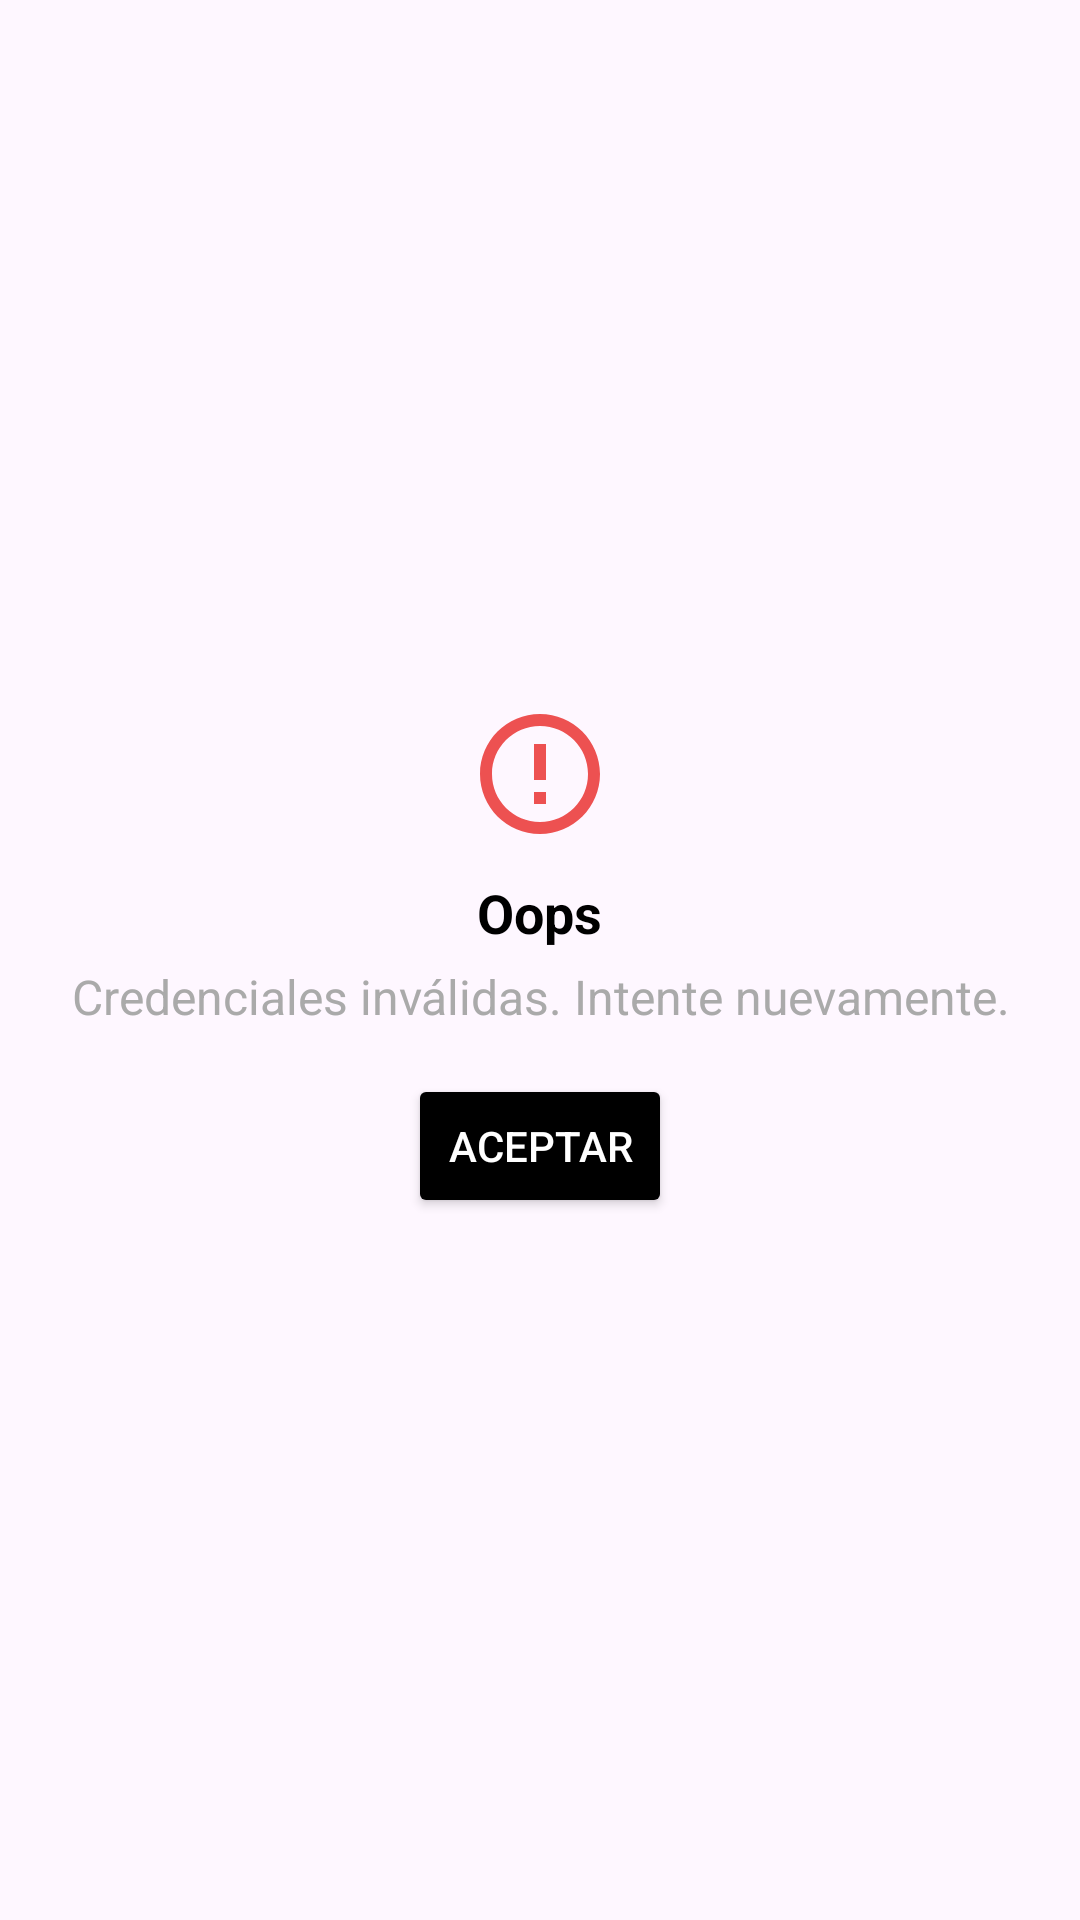

Where icons sit on this 1080x1920 app screen, as (x1, y1, x2, y2):
error: (480, 714, 600, 834)
